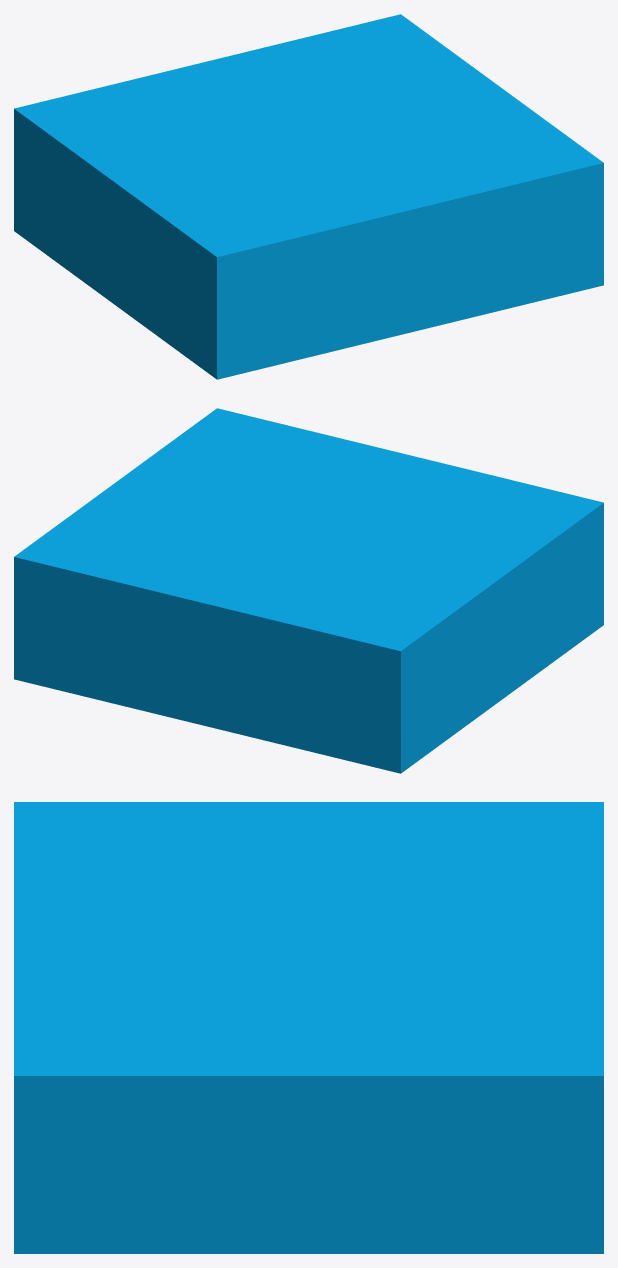
3 views of the same model, one above another, from view 1: azimuth 30°, elevation 25°; view 2: azimuth 150°, elevation 25°; view 3: azimuth 270°, elevation 25° (orthographic). The views are drawn at different scales.
Visible parts, largest first — view 1: Cube.001; view 2: Cube.001; view 3: Cube.001.
Part boxes in pixels (<box>): Cube.001: <box>14,14,603,379</box>; Cube.001: <box>14,408,603,773</box>; Cube.001: <box>14,802,603,1253</box>.
Bounding box in the file's own units: 1423 × 523 × 1294.
